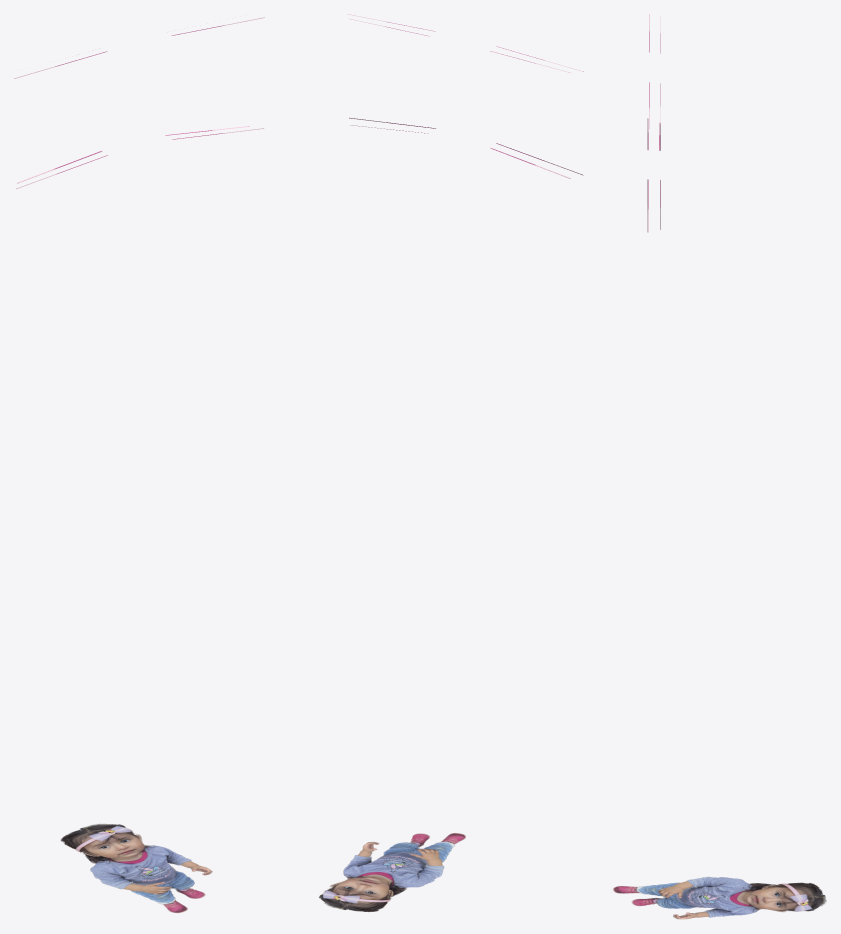
The model's file is mune.glb.
3 renders of one model, left to right at view 1: azimuth 30°, elevation 25°; view 2: azimuth 150°, elevation 25°; view 3: azimuth 270°, elevation 25°, orthographic. The views are drawn at different scales.
Visible parts, largest first — view 1: Asunto.001; view 2: Asunto.001; view 3: Asunto.001.
Part boxes in pixels (bbox=[...]): Asunto.001: bbox=[61, 824, 212, 912]; Asunto.001: bbox=[319, 833, 465, 911]; Asunto.001: bbox=[613, 877, 826, 919].
Bounding box in the file's own units: 2.59 × 8.52 × 2.03.
2 materials, 2 textured.
